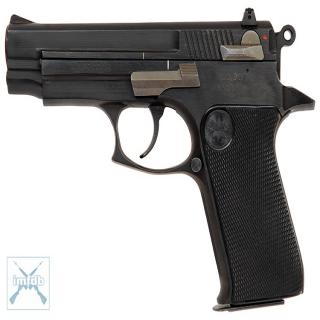gun: (7, 11, 317, 296)
